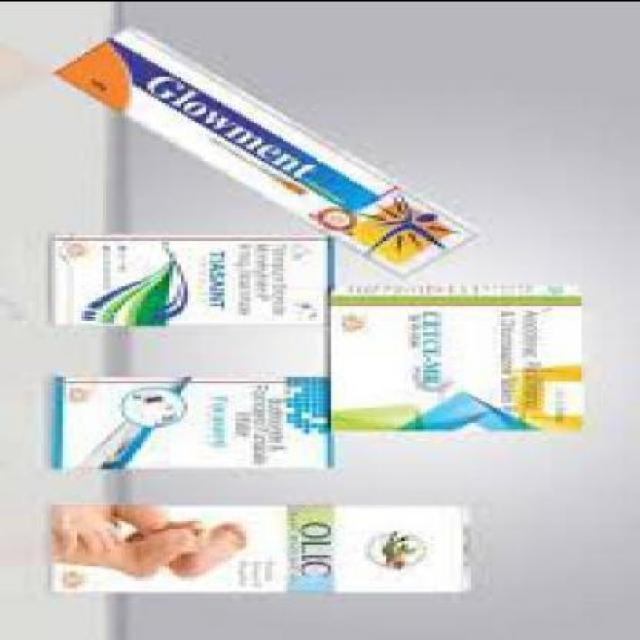box: (56, 21, 487, 274), (331, 280, 589, 428), (48, 502, 475, 591), (53, 371, 339, 466), (52, 232, 343, 323)
